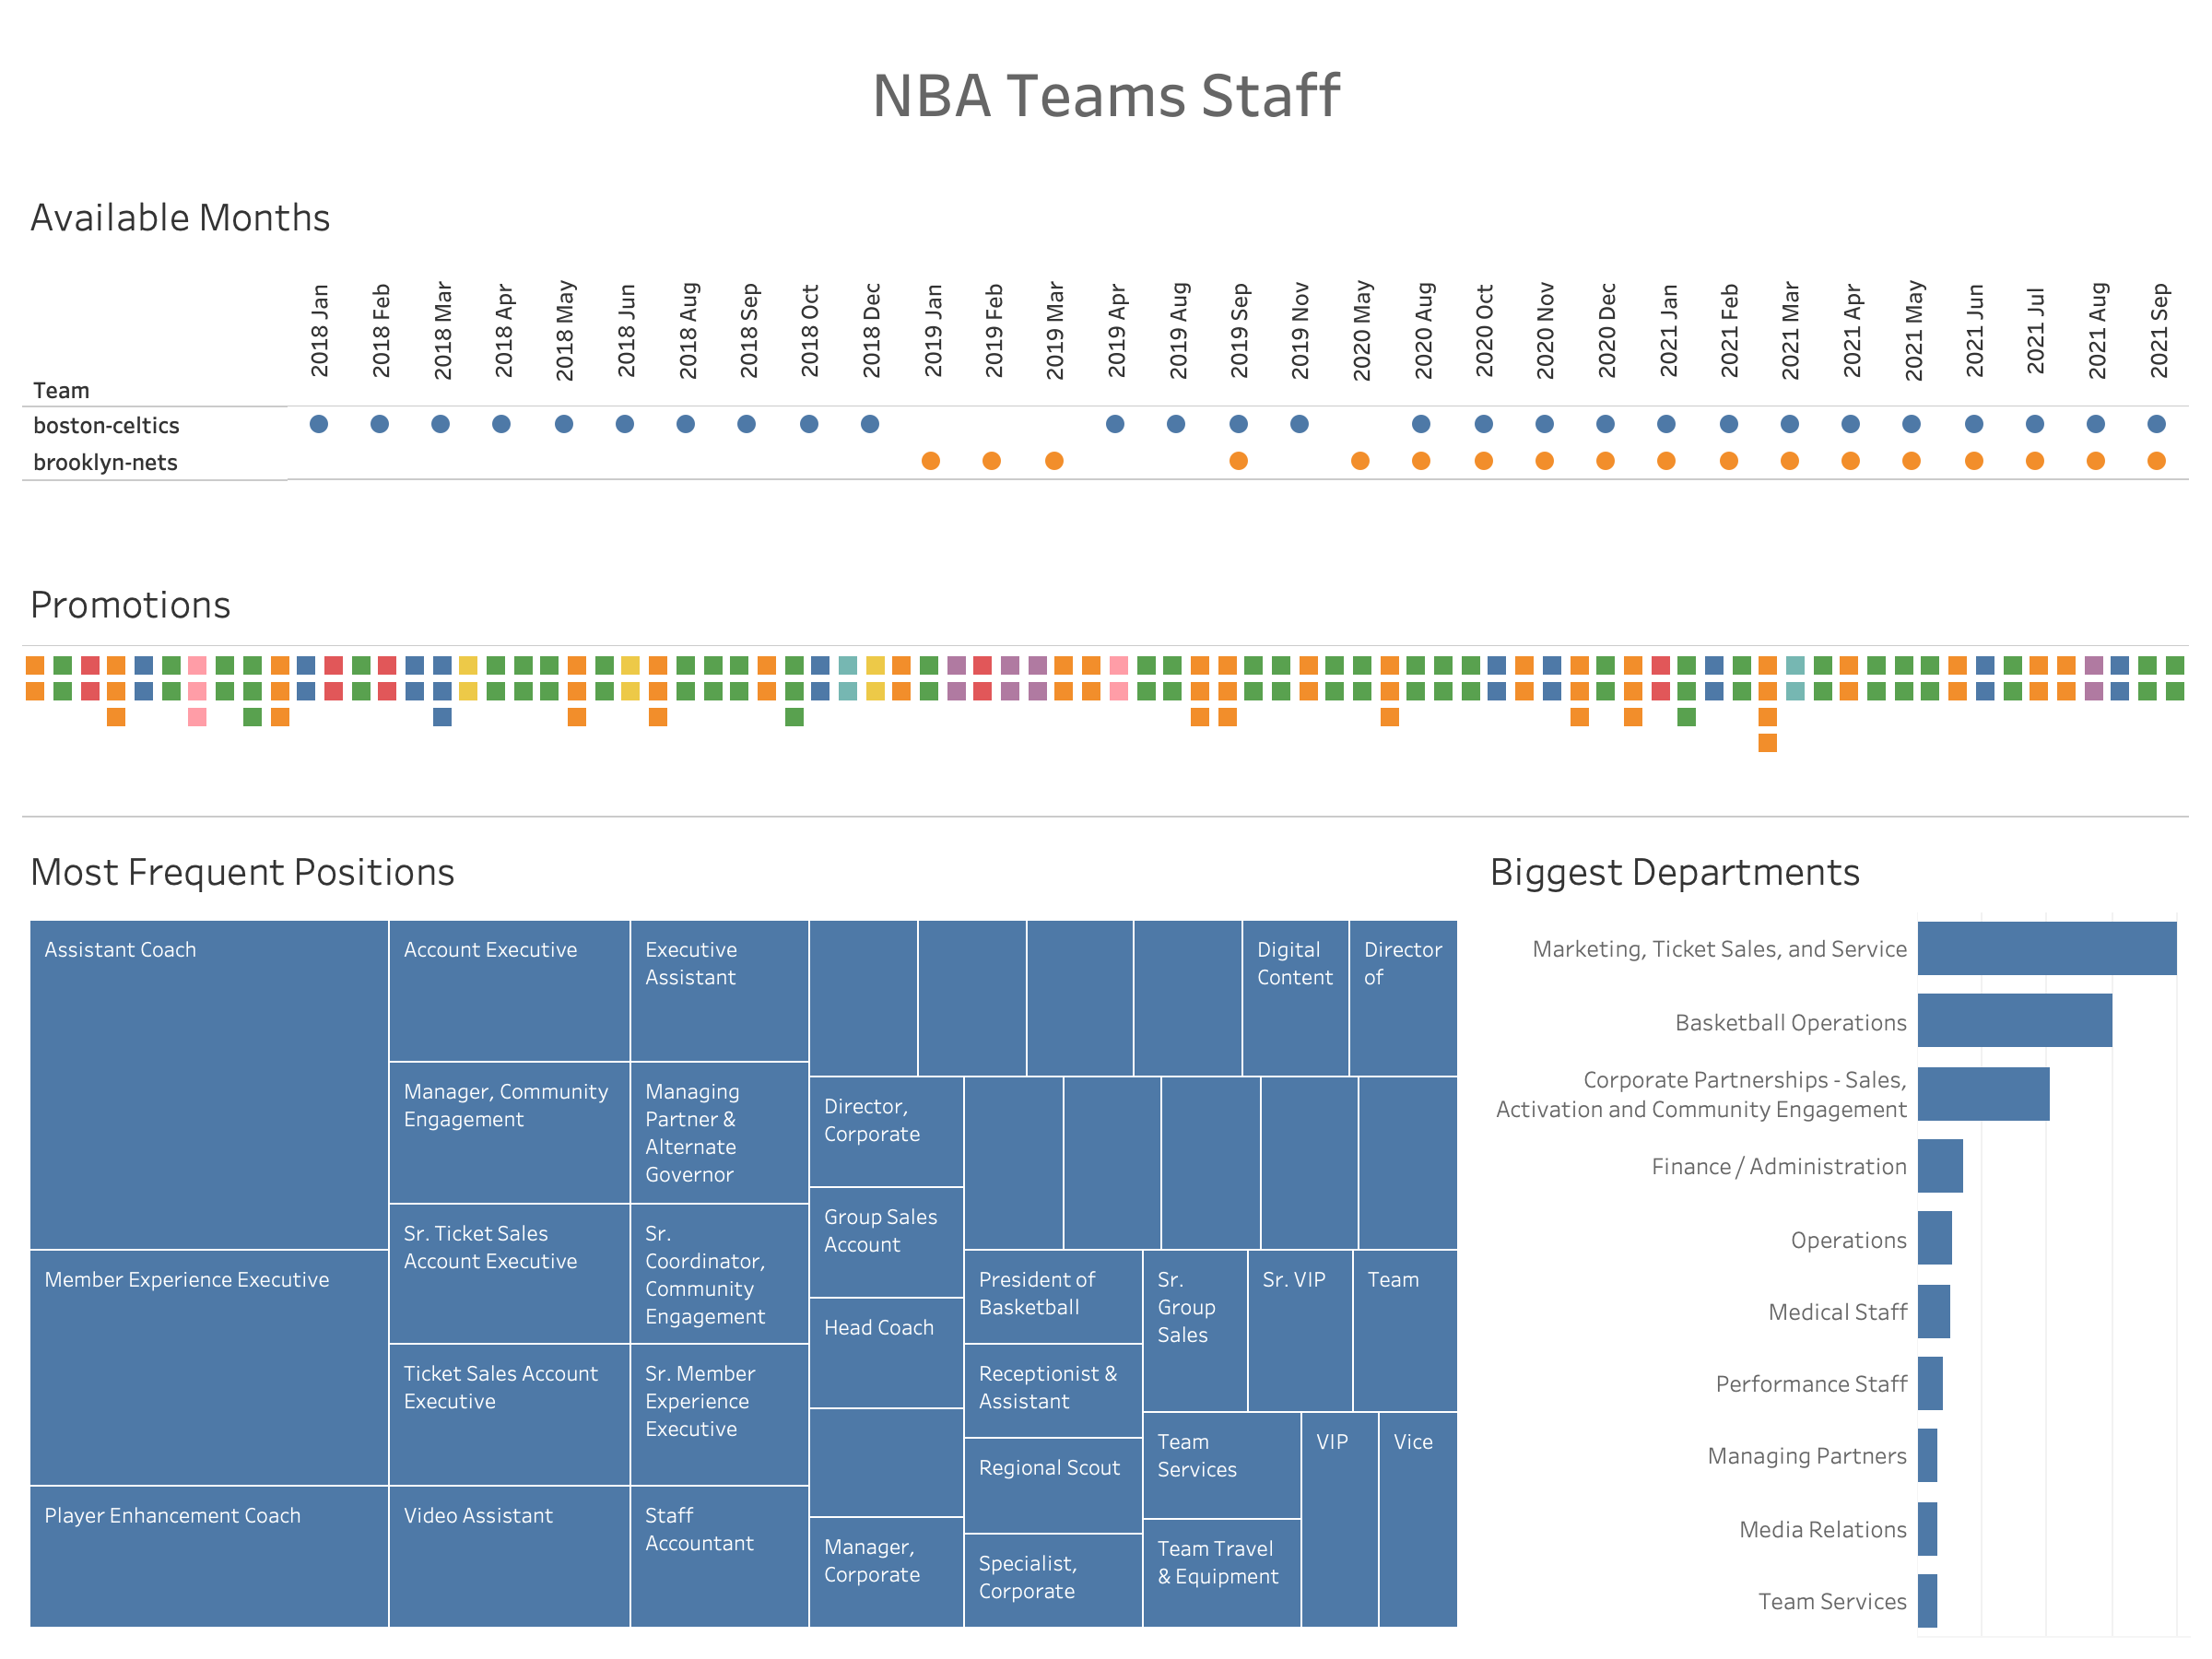

What the dashboard file says about the page in this screenshot:
{"tool":"tableau","page":{"name":"Dashboard 1","canvas":[1200,900],"ordinal":0},"visuals":[{"type":"text","box":[8,8,1184,85]},{"type":"worksheet","title":"Available Months","mark":"Circle","rows":["Calculation_4317263213743067137"],"cols":["date"],"box":[8,93,1184,209.9]},{"type":"worksheet","title":"Promotions","mark":"Automatic","cols":["name"],"box":[8,302.9,1184,144.7]},{"type":"worksheet","title":"Most Frequent Positions","mark":"Automatic","box":[8,447.7,792,444.3]},{"type":"worksheet","title":"Biggest Departments","mark":"Automatic","rows":["department"],"cols":["name"],"box":[800,447.7,392,444.3]}]}

Visuals, with their boxes in screenshot pixels (x1, y1, x2, y2), scaled from the page's 1200x900 canvas onto the 2212x1659 screenshot:
text: region(15, 15, 2197, 171)
"Available Months" worksheet (Circle marks): region(15, 171, 2197, 559)
"Promotions" worksheet: region(15, 559, 2197, 825)
"Most Frequent Positions" worksheet: region(15, 825, 1475, 1644)
"Biggest Departments" worksheet: region(1475, 825, 2197, 1644)
